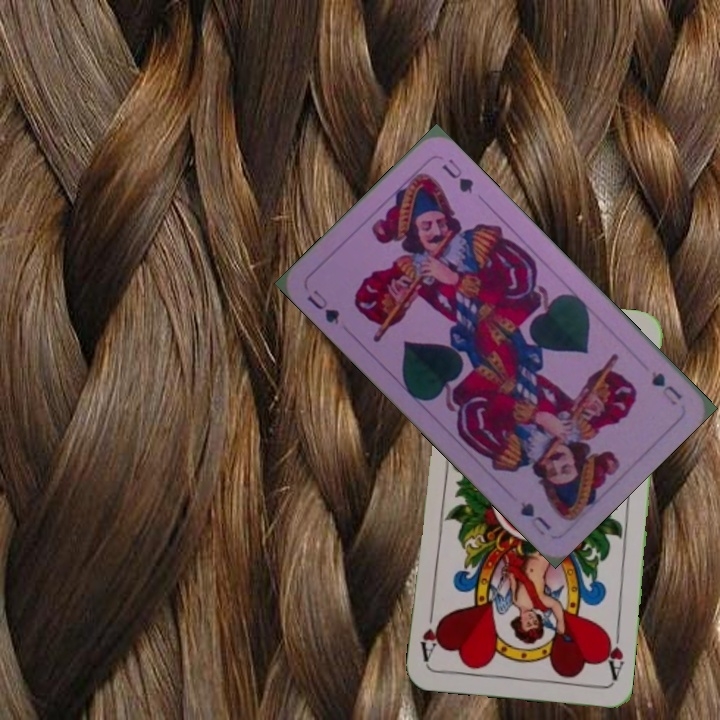GU: (302, 285, 343, 328), (647, 366, 685, 409)
HA: (600, 624, 627, 683)
